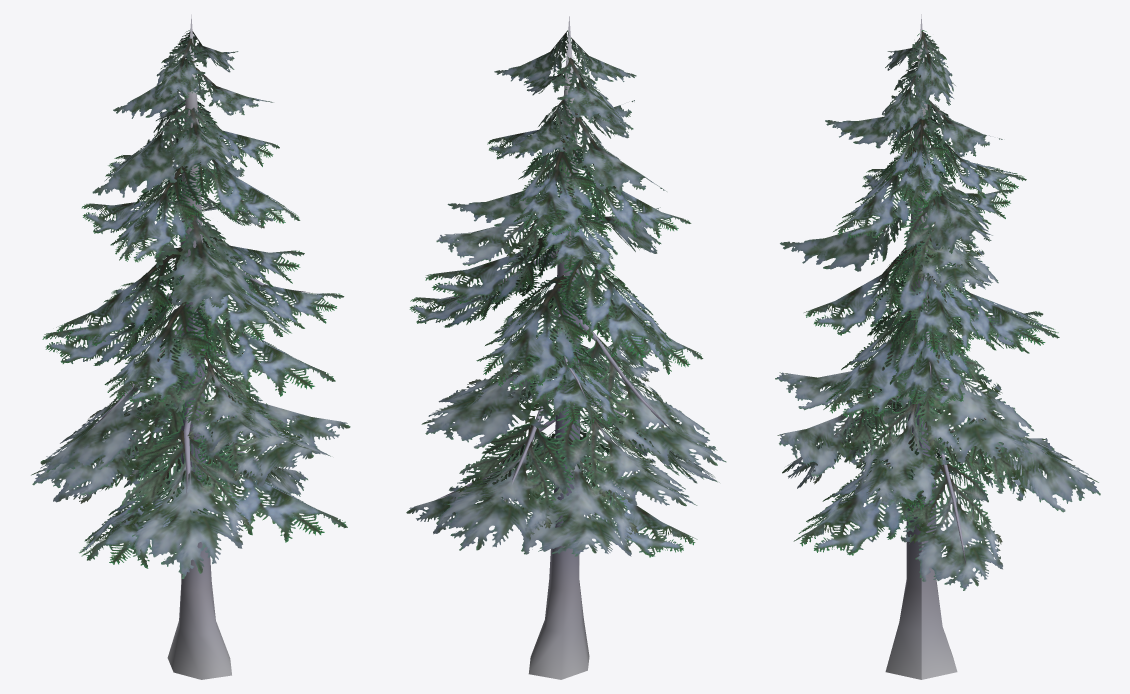
Rendered from SV_PLT_xueyuan_tree_0.FBX.
3 views of the same model, side by side, from view 1: azimuth 30°, elevation 25°; view 2: azimuth 150°, elevation 25°; view 3: azimuth 270°, elevation 25° (orthographic).
Parts seen in each view (by area): view 1: SV_PLT_xueyuan_tree_0_leaf, SV_PLT_xueyuan_tree_0_trunk; view 2: SV_PLT_xueyuan_tree_0_leaf, SV_PLT_xueyuan_tree_0_trunk; view 3: SV_PLT_xueyuan_tree_0_leaf, SV_PLT_xueyuan_tree_0_trunk.
Part boxes in pixels (left/top/right/bottom): SV_PLT_xueyuan_tree_0_leaf: left=31, top=30, right=350, bottom=578; SV_PLT_xueyuan_tree_0_trunk: left=88, top=14, right=309, bottom=679; SV_PLT_xueyuan_tree_0_leaf: left=406, top=30, right=726, bottom=557; SV_PLT_xueyuan_tree_0_trunk: left=436, top=16, right=672, bottom=679; SV_PLT_xueyuan_tree_0_leaf: left=775, top=30, right=1100, bottom=590; SV_PLT_xueyuan_tree_0_trunk: left=851, top=14, right=1044, bottom=679.
Size of the model in its own units: 5.5 by 10.45 by 5.14.
